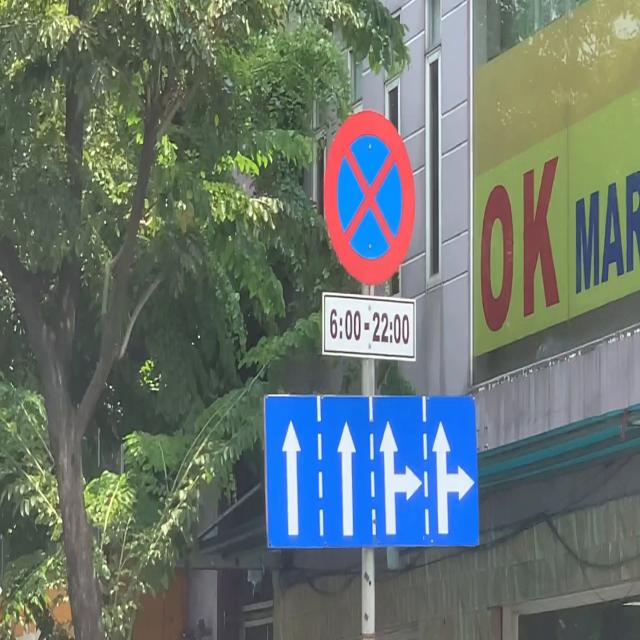Cam dung va do: (321, 106, 418, 291)
